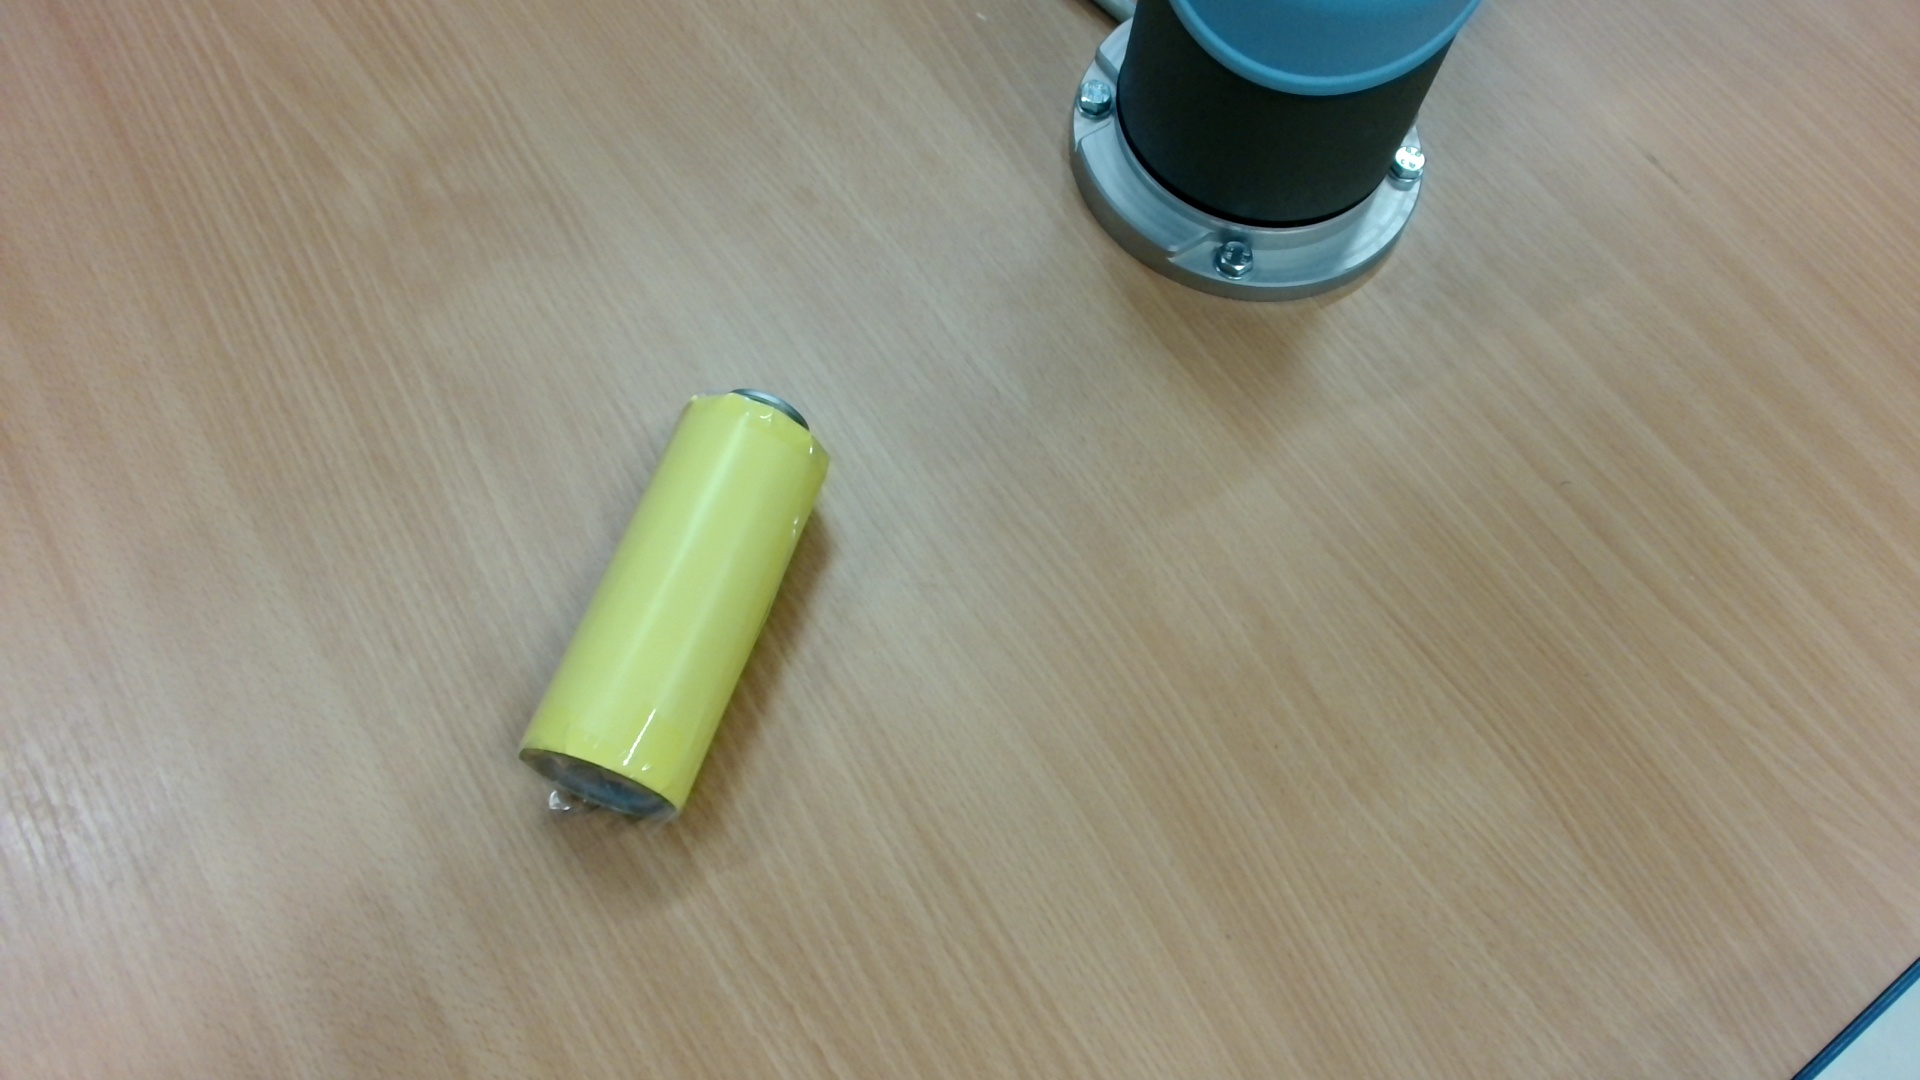Cylinder: (506, 371, 847, 868)
